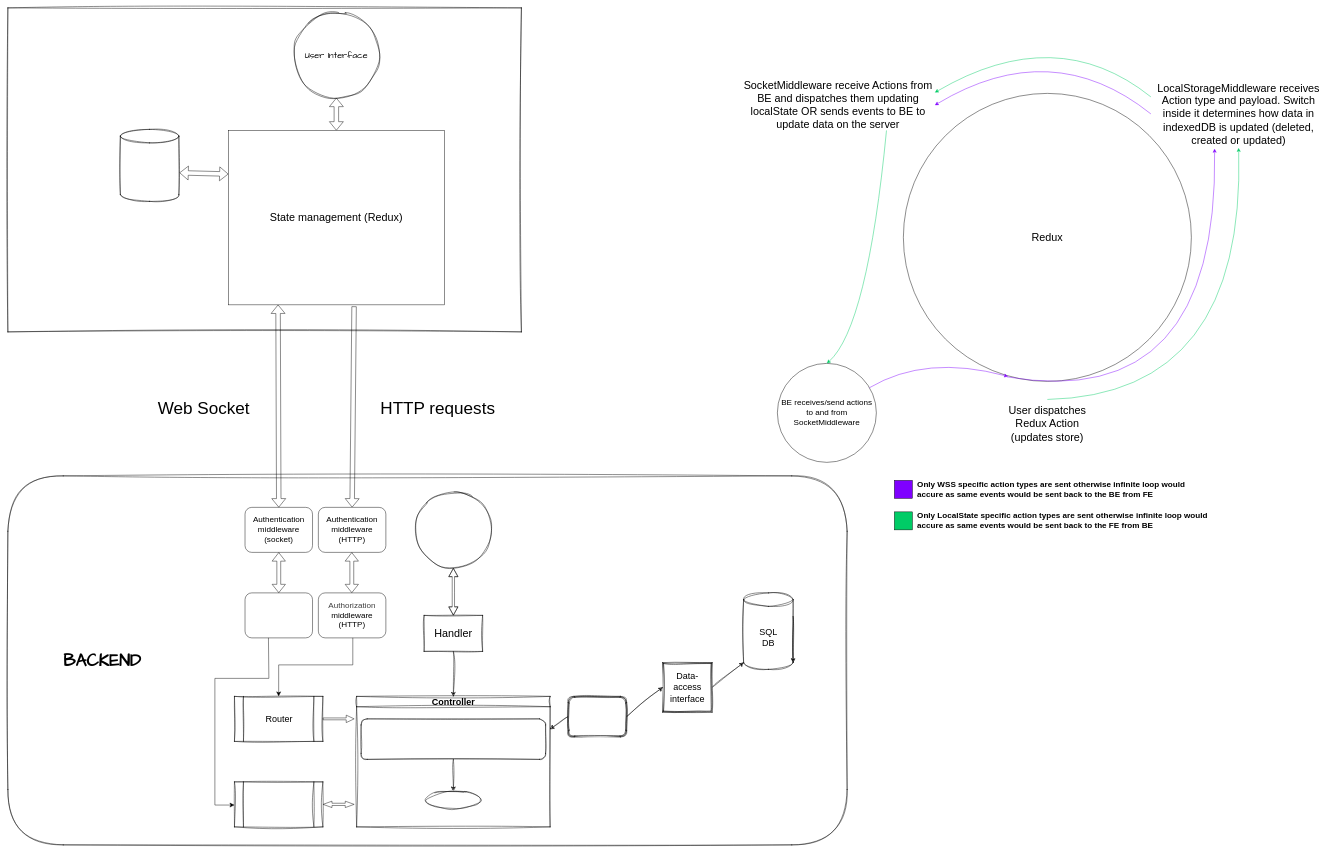
Some shapes in this 1334 by 853 pixel diagram are drawn without their labels. Here are the shapes that lost their labels. From the top down, the box of each, then its label:
(120, 129, 179, 201): Indexed DB
(415, 491, 492, 568): Domain logic
(245, 592, 313, 638): Authorization middleware (socket)
(568, 696, 627, 737): Gateway
(361, 718, 546, 759): Handler(gateway, req data)
(234, 781, 323, 827): WebSocket message switch
(426, 790, 480, 809): response
